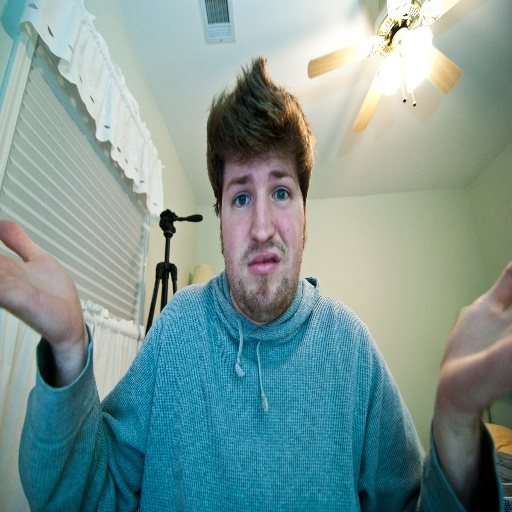hand: (0, 209, 93, 386), (437, 257, 511, 422)
